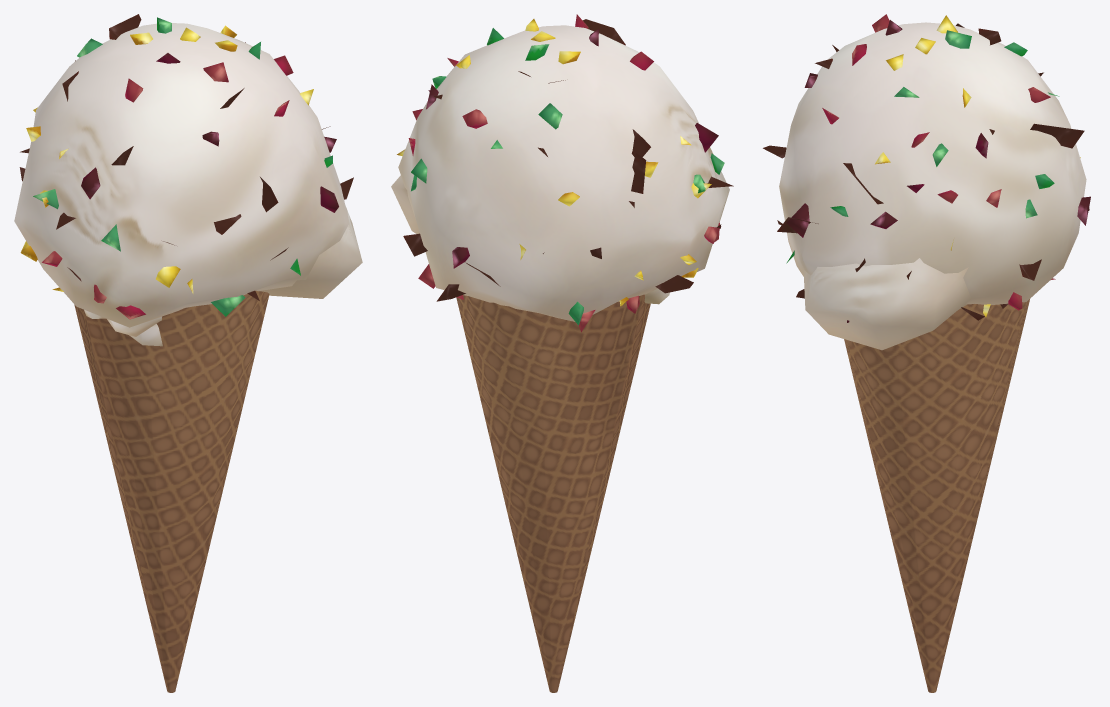
The model's file is VanilaIcecream.glb.
3 views of the same model, side by side, from view 1: azimuth 30°, elevation 25°; view 2: azimuth 150°, elevation 25°; view 3: azimuth 270°, elevation 25° (orthographic).
Parts seen in each view (by area): view 1: Object_7.002; view 2: Object_7.002; view 3: Object_7.002.
Part boxes in pixels (box(x1,y1,x2,y2)): Object_7.002: box(14, 14, 362, 692); Object_7.002: box(391, 14, 733, 692); Object_7.002: box(763, 14, 1090, 692).
Size of the model in its own units: 0.2497 by 0.5071 by 0.2322.
1 material, 1 textured.
